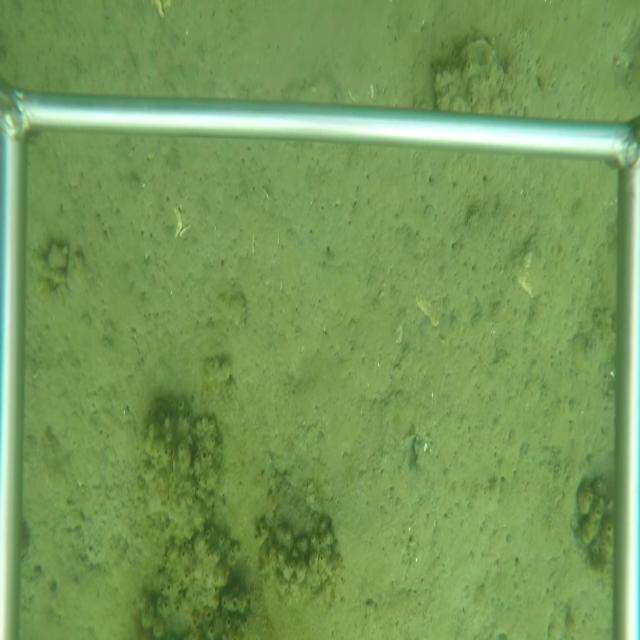Oyster-Indeterminate: (431, 36, 505, 113)
